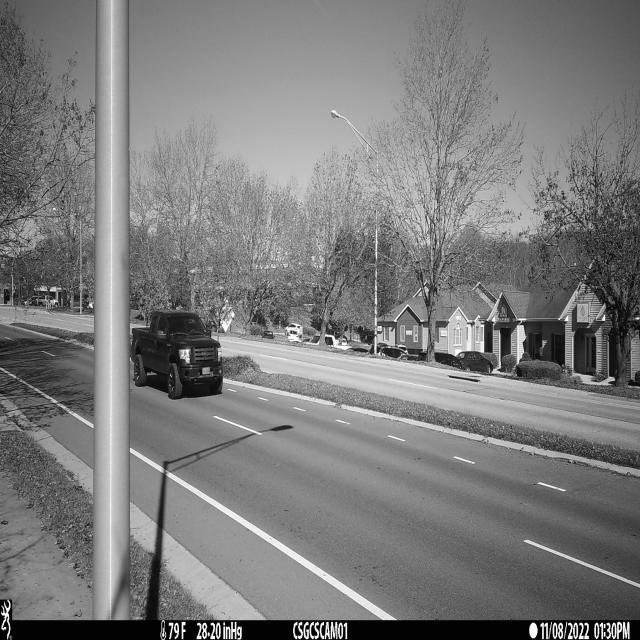Pickup: (131, 311, 223, 400)
